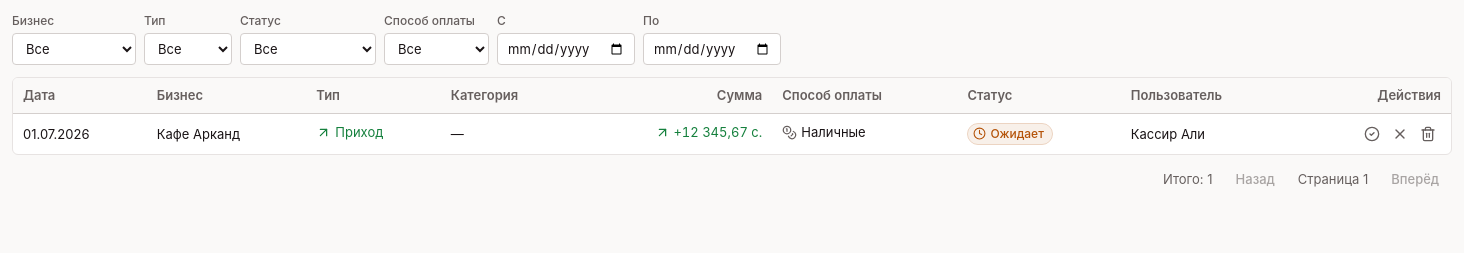
Test: TxTable › 409 при подтверждении показывает ErrorBanner
Click the button named "Подтвердить приход" at (1372, 134), box top-left (1359, 121), bottom-right (1385, 147)
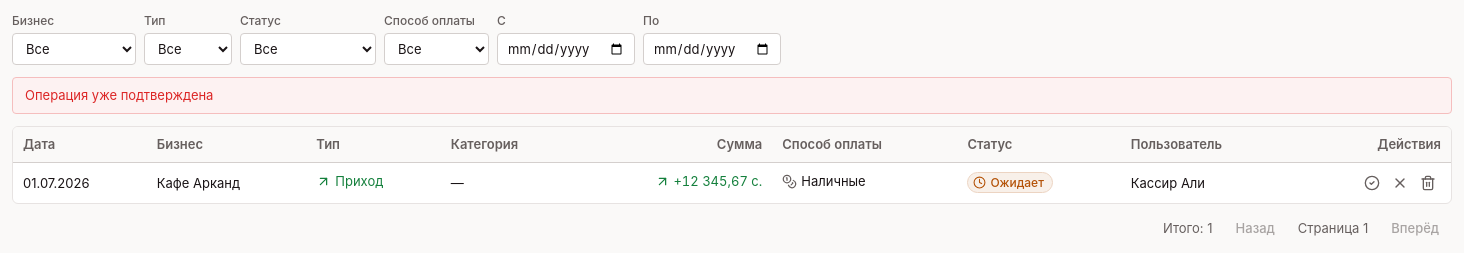
Check: the message reads "Операция уже подтверждена", box top-left (25, 87), bottom-right (213, 103)
